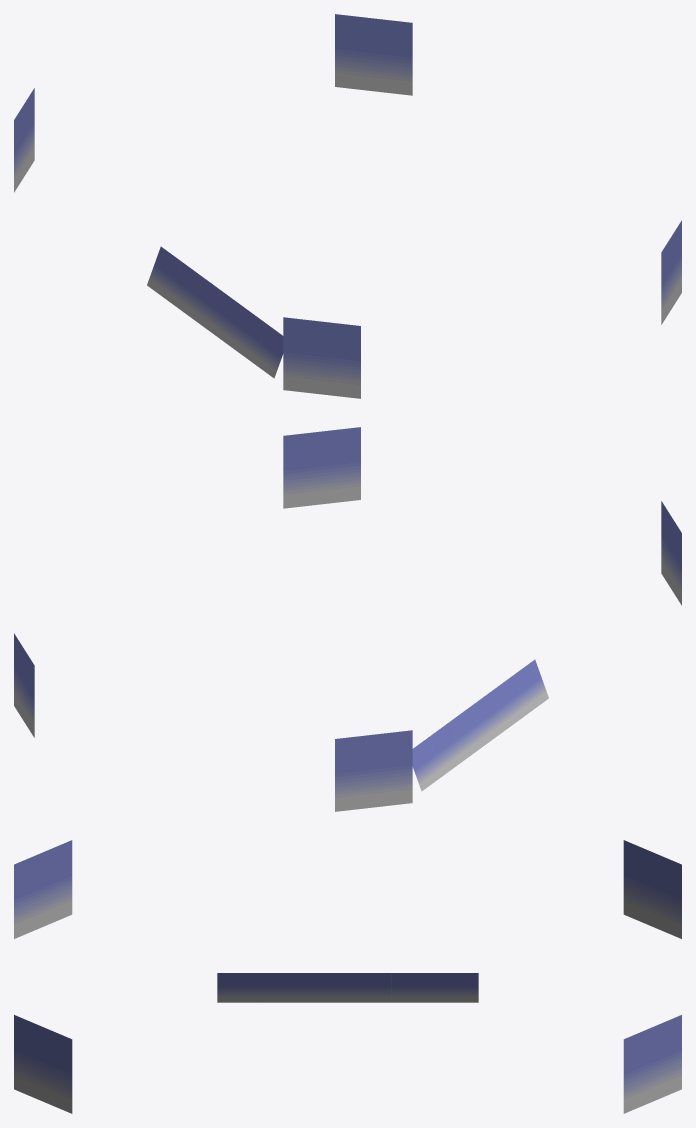
The model's file is part_09_off_05BAC.obj.
3 renders of one model, top to bottom at view 1: azimuth 30°, elevation 25°; view 2: azimuth 150°, elevation 25°; view 3: azimuth 270°, elevation 25°, orthographic. The views are drawn at different scales.
Size of the model in its own units: 140 by 43.01 by 198.
Materials: 1 (1 with a texture image).
